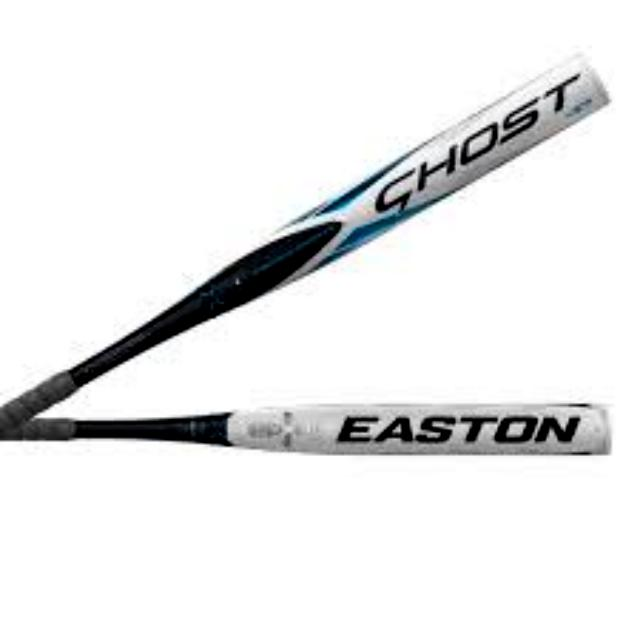baseball bat: (1, 49, 612, 441)
